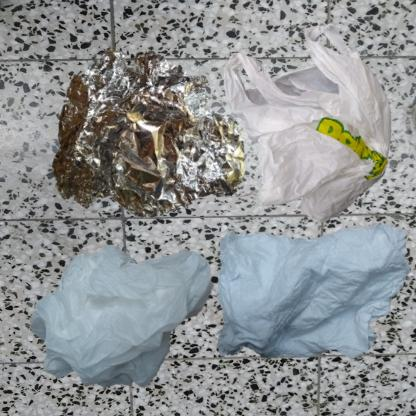aluminio: (10, 10, 290, 287)
bolsa: (10, 213, 269, 416), (213, 10, 416, 259)
papel: (213, 213, 416, 369)
